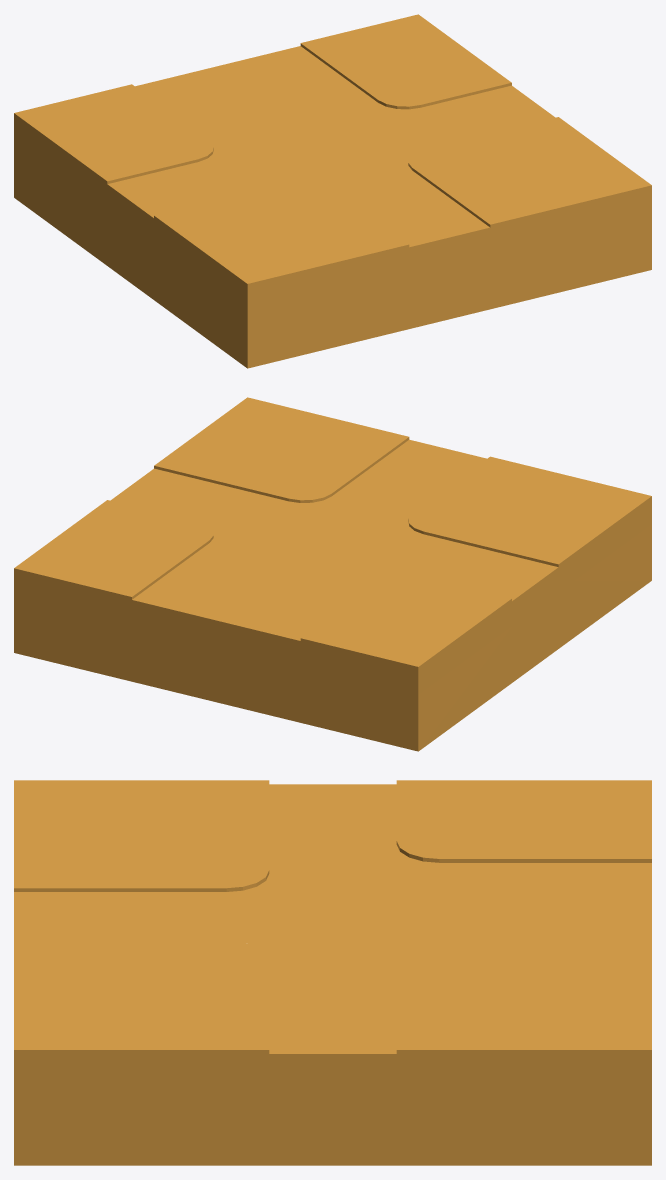
The model's file is tile-roads-mainroad-intersection.glb.
3 renders of one model, top to bottom at view 1: azimuth 30°, elevation 25°; view 2: azimuth 150°, elevation 25°; view 3: azimuth 270°, elevation 25°, orthographic. The views are drawn at different scales.
Visible parts, largest first — view 1: tile-roads-mainroad-intersection; view 2: tile-roads-mainroad-intersection; view 3: tile-roads-mainroad-intersection.
Boxes of the visible parts, x1=… form: tile-roads-mainroad-intersection: x1=14, y1=14, x2=651, y2=368; tile-roads-mainroad-intersection: x1=14, y1=397, x2=651, y2=751; tile-roads-mainroad-intersection: x1=14, y1=780, x2=651, y2=1165.
Bounding box in the file's own units: 30 × 6 × 30.
